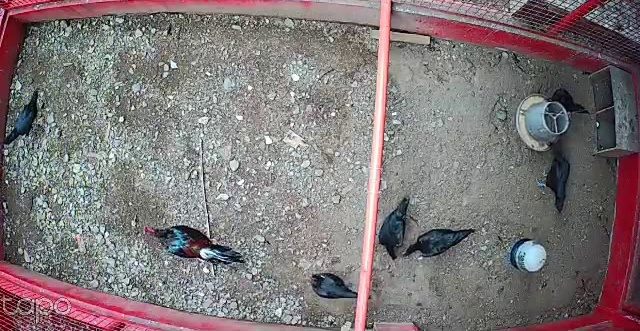Chicken: (535, 143, 572, 216), (403, 224, 476, 260), (377, 192, 414, 261), (4, 88, 45, 148), (306, 270, 359, 301), (545, 85, 591, 115)
Drinker: (511, 238, 547, 274)
Feeder: (517, 95, 570, 152)
Rooster: (143, 221, 245, 267)
